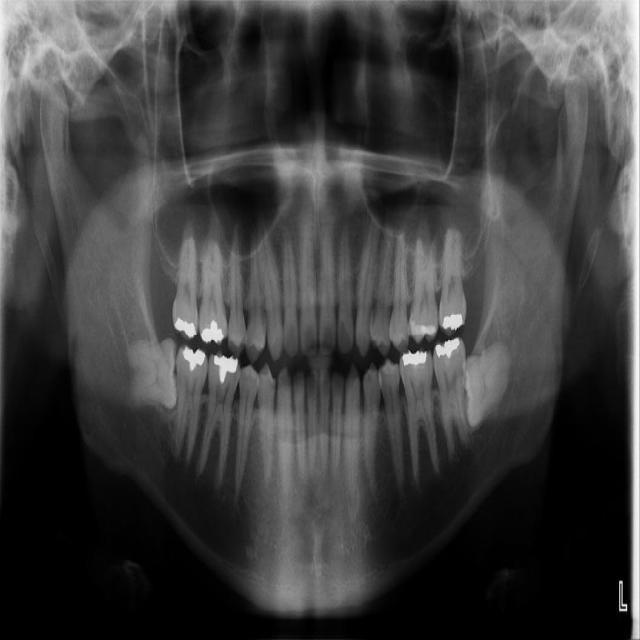52: (404, 296, 444, 347), (203, 348, 244, 397), (396, 345, 437, 390), (173, 344, 211, 392), (196, 300, 230, 348), (436, 289, 469, 337), (433, 337, 466, 380), (170, 297, 200, 341)
73: (586, 595, 590, 600)
BioHorizons Implant: (436, 228, 474, 337)
Biomet 3i Implant: (461, 343, 510, 426)
Blue Sky Bio Implant: (431, 337, 473, 467)
Caries: (168, 221, 200, 341)
Keystone Dental Implant: (127, 337, 178, 409)
